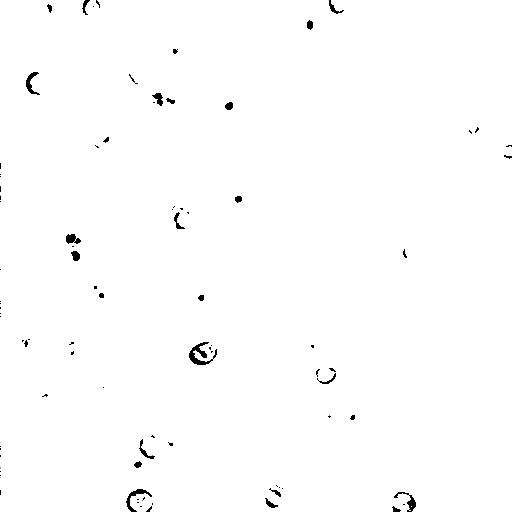micro-algae: (56, 85, 176, 193), (54, 395, 151, 492), (121, 394, 176, 452), (208, 417, 264, 472), (356, 84, 408, 138), (470, 9, 511, 76), (51, 242, 104, 290), (467, 456, 511, 512), (80, 132, 127, 178), (163, 198, 208, 236), (28, 380, 68, 419), (375, 451, 412, 491), (292, 4, 330, 42), (483, 11, 512, 51), (186, 444, 222, 476), (328, 402, 367, 430), (293, 328, 325, 361), (257, 482, 292, 512), (158, 78, 189, 111), (188, 283, 216, 318), (457, 114, 489, 143), (278, 439, 309, 466), (188, 339, 218, 366), (90, 117, 116, 148), (125, 488, 157, 512), (122, 58, 150, 85), (84, 277, 111, 304), (24, 71, 52, 97), (62, 243, 91, 268), (162, 429, 186, 458), (164, 38, 190, 64), (138, 432, 160, 462), (16, 329, 38, 357), (56, 338, 81, 362), (390, 491, 418, 512), (94, 370, 119, 393), (125, 456, 152, 477), (399, 239, 423, 262), (61, 226, 86, 248), (313, 365, 339, 386), (36, 0, 58, 24), (382, 0, 426, 12), (262, 95, 285, 117), (219, 98, 239, 117), (81, 0, 102, 18), (230, 192, 250, 209), (443, 78, 461, 96), (327, 0, 349, 14), (501, 142, 512, 160)
